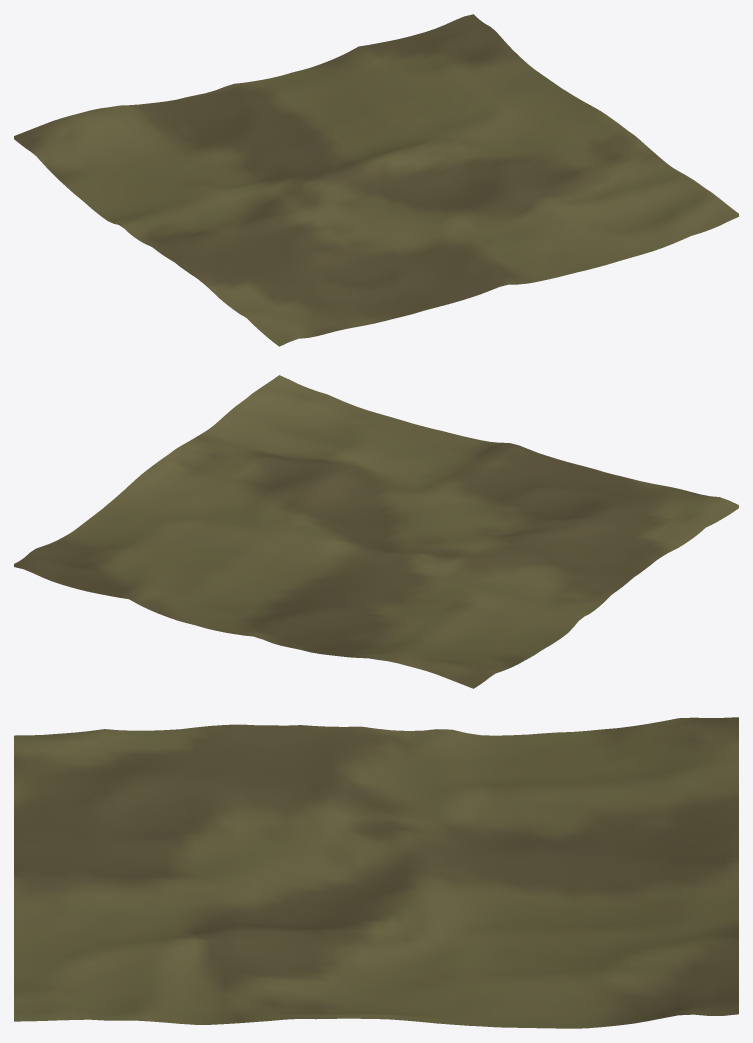
Rendered from land_m_13_02.glb.
The picture shows the model from 3 angles, top to bottom: view 1: azimuth 30°, elevation 25°; view 2: azimuth 150°, elevation 25°; view 3: azimuth 270°, elevation 25°; orthographic projection. The views are drawn at different scales.
Parts seen in each view (by area): view 1: land_m_13_02; view 2: land_m_13_02; view 3: land_m_13_02.
Boxes of the visible parts, bbox=[...] form: land_m_13_02: bbox=[14, 14, 738, 346]; land_m_13_02: bbox=[14, 375, 738, 688]; land_m_13_02: bbox=[14, 717, 738, 1028].
Size of the model in its own units: 960 by 52.57 by 960.
